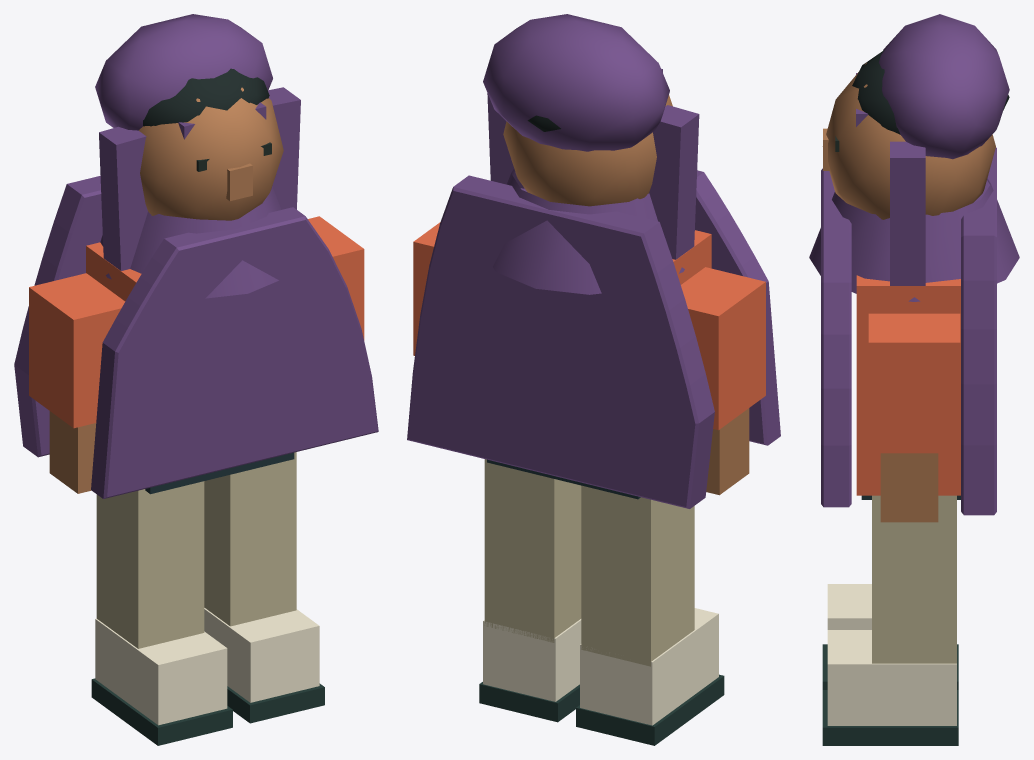
File: male-tudung-long.glb
3 renders of one model, left to right at view 1: azimuth 30°, elevation 25°; view 2: azimuth 150°, elevation 25°; view 3: azimuth 270°, elevation 25°, orthographic. The views are drawn at different scales.
Parts seen in each view (by area): view 1: male-tudung-long, tudung-long-front, avatar-tudung, tudung-long-back, tudung-neck-wrap; view 2: male-tudung-long, tudung-long-back, avatar-tudung, tudung-neck-wrap, tudung-long-front; view 3: male-tudung-long, avatar-tudung, tudung-long-back, tudung-long-front, tudung-neck-wrap.
Boxes of the visible parts, x1,y1,x2,y2 form: male-tudung-long: (29,68,364,745); tudung-long-front: (91,207,378,498); avatar-tudung: (95,14,300,270); tudung-long-back: (14,175,102,457); tudung-neck-wrap: (100,186,281,298); male-tudung-long: (413,95,765,745); tudung-long-back: (407,175,714,508); avatar-tudung: (483,14,699,259); tudung-neck-wrap: (493,168,684,294); tudung-long-front: (695,170,780,445); male-tudung-long: (822,50,1009,745); avatar-tudung: (856,14,1009,285); tudung-long-back: (961,147,996,515); tudung-long-front: (821,168,851,507); tudung-neck-wrap: (809,178,1019,301).
Size of the model in its own units: 1.01 by 2.2 by 0.62.
